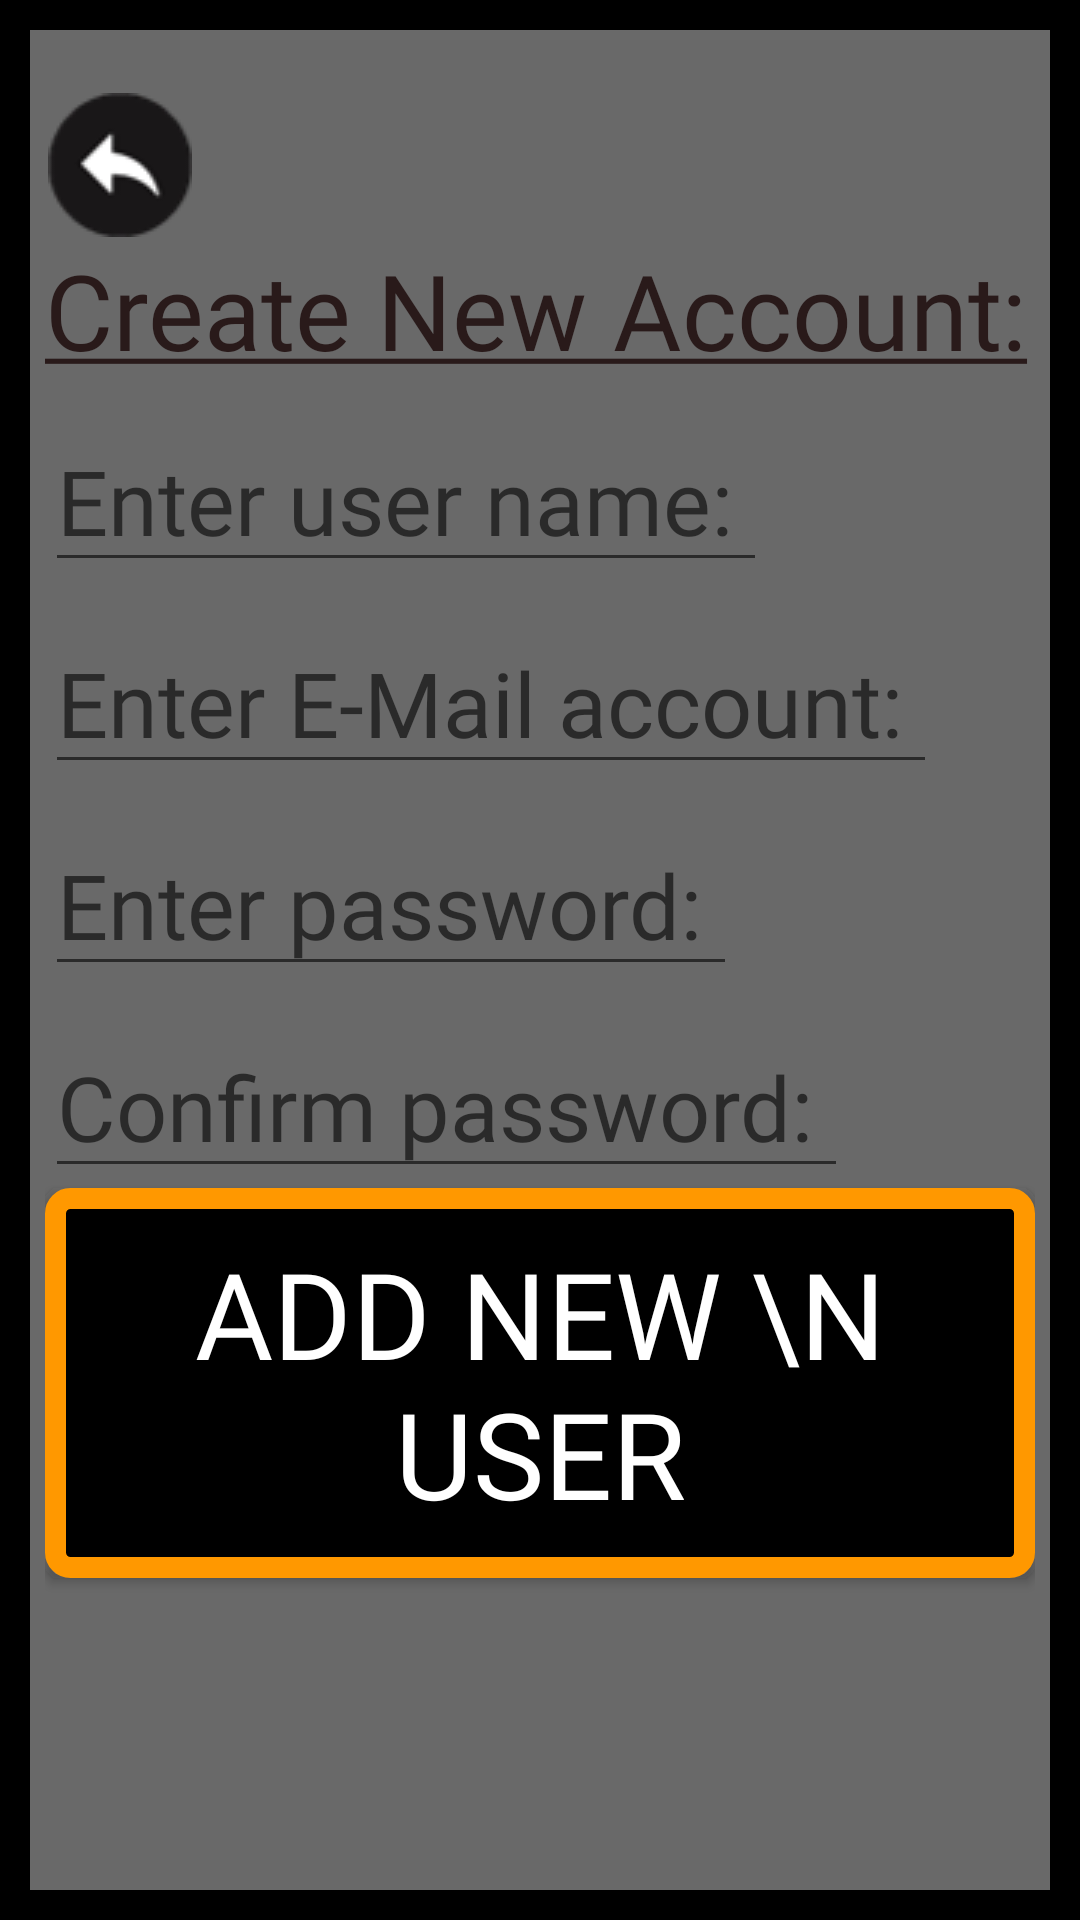

Point at icon controls on the screen. Image size 1080 × 1920, points as point (x, y).
go back: point (120, 165)
